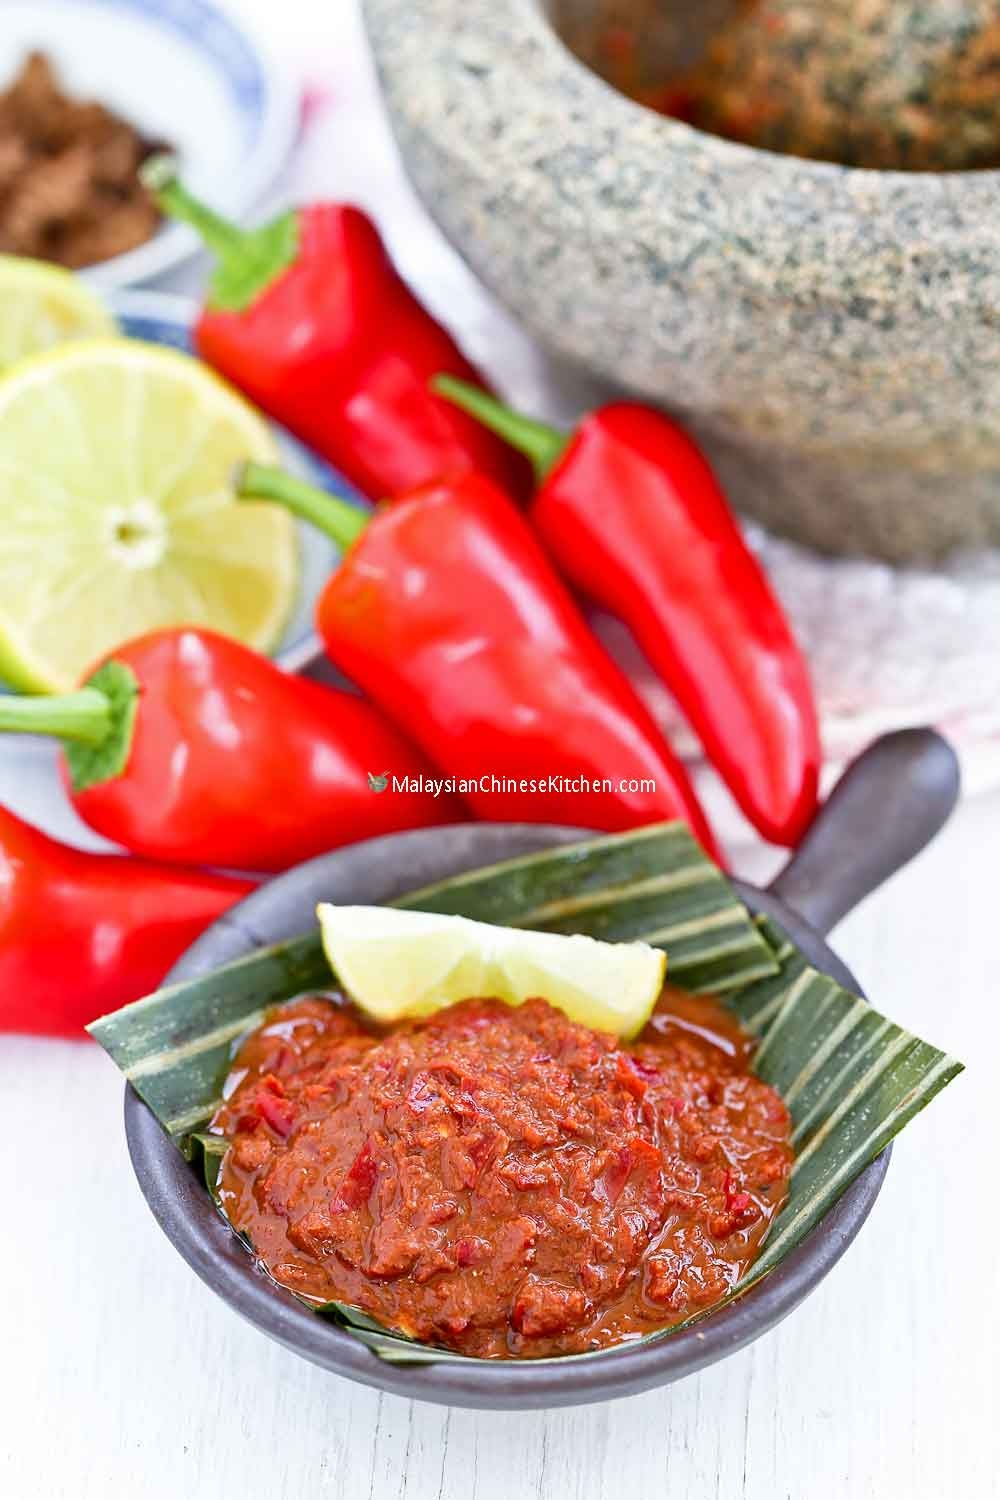sambal: (208, 968, 790, 1360)
